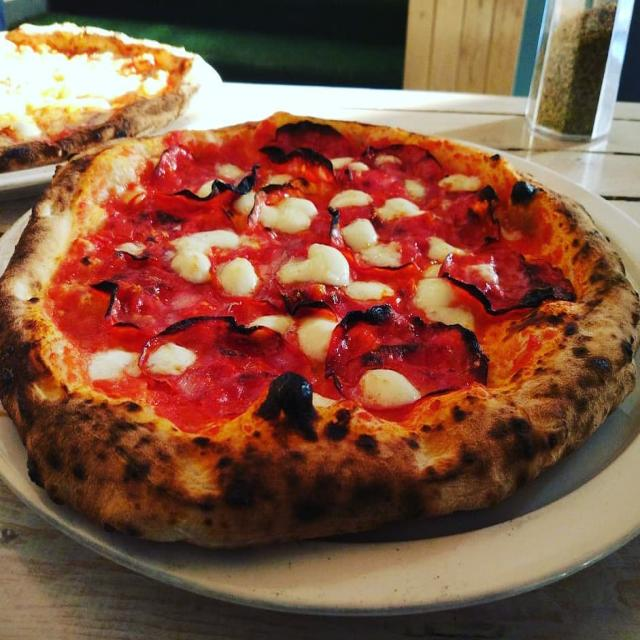pizza: (0, 107, 640, 553)
